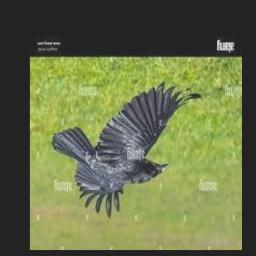Crow: (52, 81, 203, 217)
